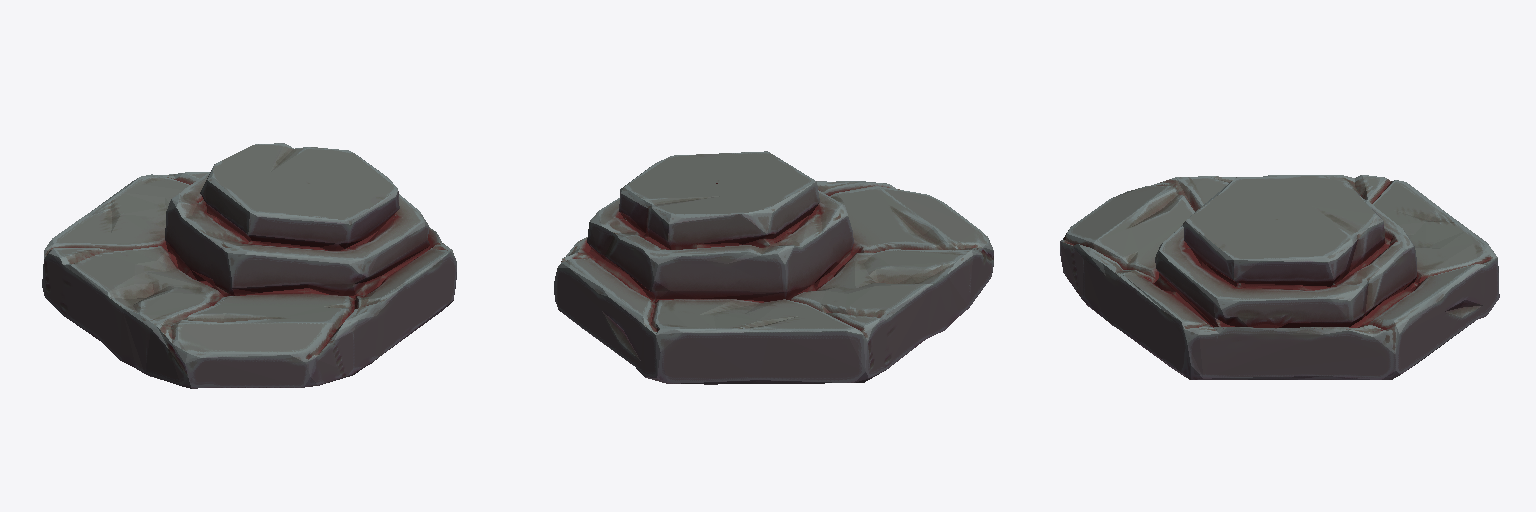
The picture shows the model from 3 angles: view 1: azimuth 30°, elevation 25°; view 2: azimuth 150°, elevation 25°; view 3: azimuth 270°, elevation 25°; orthographic projection.
Parts seen in each view (by area): view 1: Cylinder; view 2: Cylinder; view 3: Cylinder.
Part boxes in pixels (x1,y1,x2,y2): Cylinder: (42,143,456,388); Cylinder: (554,151,993,384); Cylinder: (1060,175,1499,379).
Bounding box in the file's own units: 3.71 × 1.56 × 4.52.
Materials: 1 (1 with a texture image).